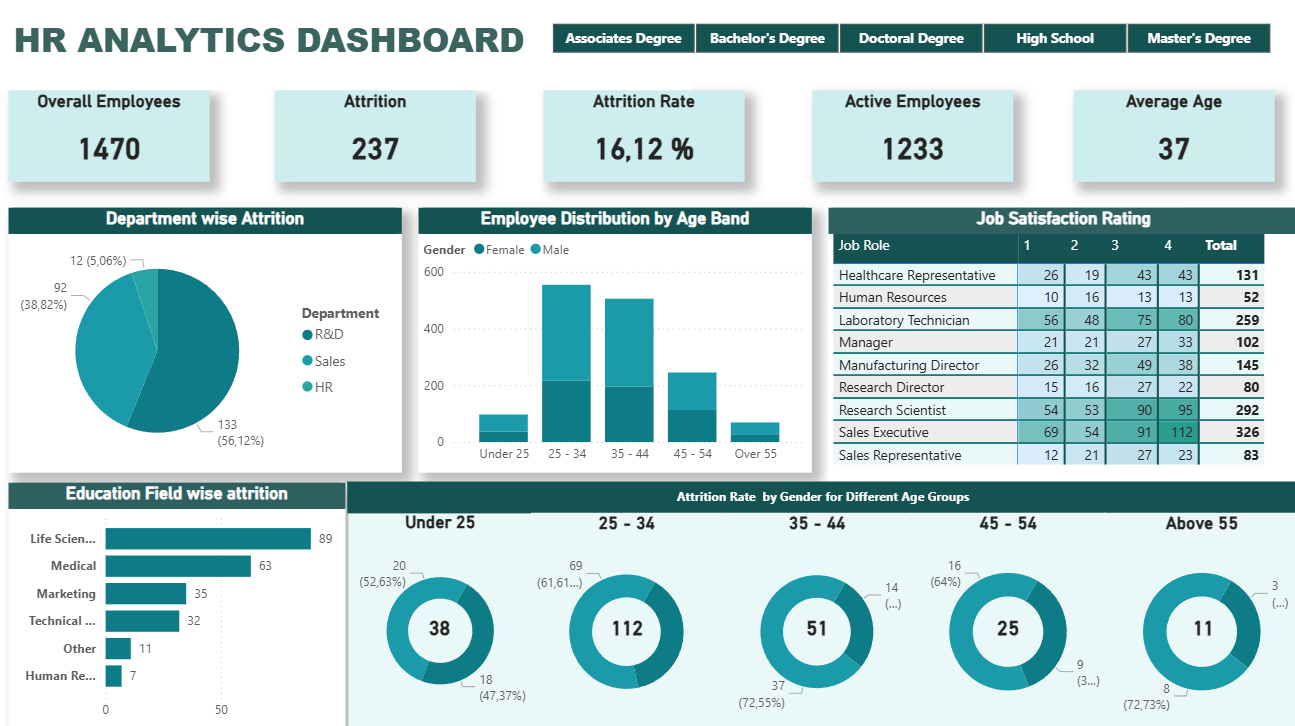

The dashboard page shown, as its layout file describes it:
{"tool":"powerbi","page":{"name":"HR","canvas":[1280,720],"ordinal":0},"visuals":[{"type":"card","title":"Overall Employees","fields":{"Values":["Sum(Table1.Employee Count)"]},"box":[16.9,93.8,196.8,89.9],"z":0},{"type":"card","title":"Attrition","fields":{"Values":["Sum(Table1.Attrition Count)"]},"box":[277.6,93.8,196.8,89.9],"z":1000},{"type":"card","title":"Average Age","fields":{"Values":["Avg(Table1.Age)"]},"box":[1058.4,93.8,196.8,89.9],"z":2000},{"type":"card","title":"Attrition Rate","fields":{"Values":["Table1.Attrition Rate"]},"box":[540.9,93.8,196.8,89.9],"z":3000},{"type":"card","title":"Active Employees","fields":{"Values":["Table1.Active Employees"]},"box":[802.9,93.8,196.8,89.9],"z":4000},{"type":"pieChart","title":"Department wise Attrition","fields":{"Y":["Sum(Table1.Attrition Count)"],"Category":["Table1.Department"]},"box":[16.9,208.6,384.5,259.4],"z":5000},{"type":"columnChart","title":"Employee Distribution by Age Band","fields":{"Y":["Sum(Table1.Employee Count)"],"Category":["Table1.CF_age band"],"Series":["Table1.Gender"]},"box":[418.4,208.6,384.5,259.4],"z":6000},{"type":"pivotTable","title":"Job Satisfaction Rating","fields":{"Rows":["Table1.Job Role"],"Columns":["Table1.Job Satisfaction"],"Values":["Sum(Table1.Employee Count)"]},"box":[819.3,209.1,460.7,267.3],"z":7000},{"type":"barChart","title":"Education Field wise attrition","fields":{"Category":["Table1.Education Field"],"Y":["Sum(Table1.Attrition Count)"]},"box":[16.9,478.4,329.3,240.1],"z":8000},{"type":"donutChart","title":"Under 25","fields":{"Y":["Sum(Table1.Attrition Count)"],"Category":["Table1.Gender"],"Series":["Table1.CF_age band"]},"box":[349.3,505.7,179.9,213],"z":9000},{"type":"textbox","box":[349.1,476.5,930.9,31.4],"z":10000},{"type":"donutChart","title":"25 - 34","fields":{"Y":["Sum(Table1.Attrition Count)"],"Category":["Table1.Gender"],"Series":["Table1.CF_age band"]},"box":[528.4,507.9,187.1,212.3],"z":11000},{"type":"donutChart","title":"35 - 44","fields":{"Y":["Sum(Table1.Attrition Count)"],"Category":["Table1.Gender"],"Series":["Table1.CF_age band"]},"box":[715.5,507.9,185.6,212.3],"z":12000},{"type":"donutChart","title":"45 - 54","fields":{"Y":["Sum(Table1.Attrition Count)"],"Category":["Table1.Gender"],"Series":["Table1.CF_age band"]},"box":[899.5,507.9,190.3,212.3],"z":13000},{"type":"donutChart","title":"Above 55","fields":{"Y":["Sum(Table1.Attrition Count)"],"Category":["Table1.Gender"],"Series":["Table1.CF_age band"]},"box":[1089.7,507.9,190.3,212.3],"z":14000},{"type":"card","fields":{"Values":["Sum(Table1.Attrition Count)"]},"box":[416.7,602.3,44,34.6],"z":15000},{"type":"card","fields":{"Values":["Sum(Table1.Attrition Count)"]},"box":[600.7,602.3,44,34.6],"z":16000},{"type":"card","fields":{"Values":["Sum(Table1.Attrition Count)"]},"box":[786.2,602.3,44,34.6],"z":17000},{"type":"card","fields":{"Values":["Sum(Table1.Attrition Count)"]},"box":[973.4,602.3,44,34.6],"z":18000},{"type":"card","fields":{"Values":["Sum(Table1.Attrition Count)"]},"box":[1163.6,602.3,44,34.6],"z":19000},{"type":"textbox","title":"HR ANALYTICS DASHBOARD","box":[17.3,22,669.9,72.3],"z":20000},{"type":"slicer","fields":{"Values":["Table1.Education"]},"box":[523.6,22,751.6,42.5],"z":21000}]}

Visuals, with their boxes in screenshot pixels (x1, y1, x2, y2), scaled from the page's 1280x720 canvas onto the 1295x726 screenshot:
"Overall Employees" card: rect(17, 95, 216, 185)
"Attrition" card: rect(281, 95, 480, 185)
"Average Age" card: rect(1071, 95, 1270, 185)
"Attrition Rate" card: rect(547, 95, 746, 185)
"Active Employees" card: rect(812, 95, 1011, 185)
"Department wise Attrition" pieChart: rect(17, 210, 406, 472)
"Employee Distribution by Age Band" columnChart: rect(423, 210, 812, 472)
"Job Satisfaction Rating" pivotTable: rect(829, 211, 1294, 480)
"Education Field wise attrition" barChart: rect(17, 482, 350, 724)
"Under 25" donutChart: rect(353, 510, 535, 725)
textbox: rect(353, 480, 1294, 512)
"25 - 34" donutChart: rect(535, 512, 724, 725)
"35 - 44" donutChart: rect(724, 512, 912, 725)
"45 - 54" donutChart: rect(910, 512, 1103, 725)
"Above 55" donutChart: rect(1102, 512, 1294, 725)
card - Sum(Table1.Attrition Count): rect(422, 607, 466, 642)
card - Sum(Table1.Attrition Count): rect(608, 607, 652, 642)
card - Sum(Table1.Attrition Count): rect(795, 607, 840, 642)
card - Sum(Table1.Attrition Count): rect(985, 607, 1029, 642)
card - Sum(Table1.Attrition Count): rect(1177, 607, 1222, 642)
"HR ANALYTICS DASHBOARD" textbox: rect(18, 22, 695, 95)
slicer - Table1.Education: rect(530, 22, 1290, 65)
